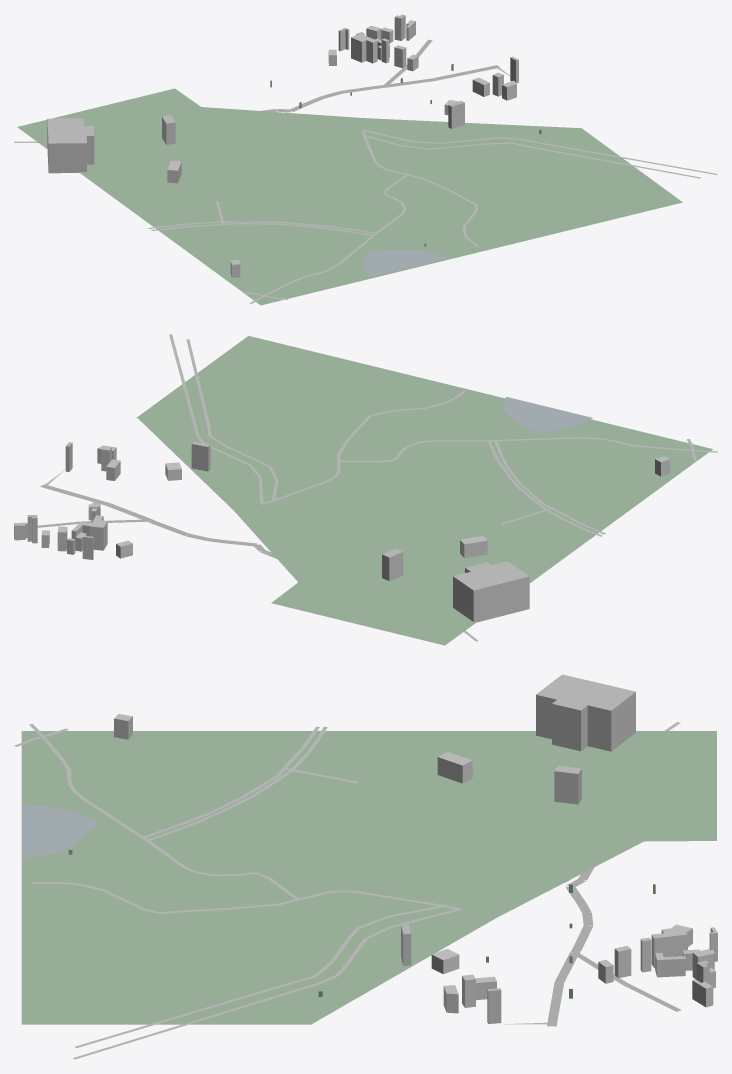
3 renders of one model, top to bottom at view 1: azimuth 30°, elevation 25°; view 2: azimuth 150°, elevation 25°; view 3: azimuth 270°, elevation 25°, orthographic. The views are drawn at different scales.
Bounding box in the file's own units: 590 × 34.46 × 506.
